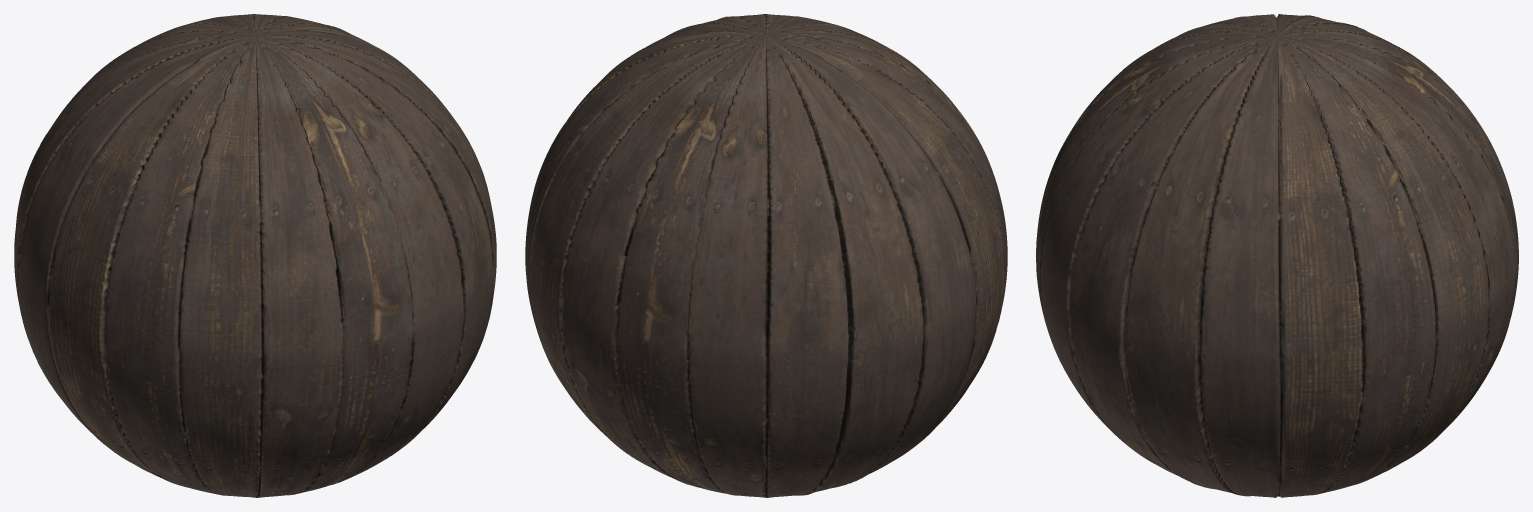
The model's file is weathered_planks_1k.glb.
3 renders of one model, left to right at view 1: azimuth 30°, elevation 25°; view 2: azimuth 150°, elevation 25°; view 3: azimuth 270°, elevation 25°, orthographic.
Parts seen in each view (by area): view 1: sphere_gltf; view 2: sphere_gltf; view 3: sphere_gltf.
Part boxes in pixels (<box>): sphere_gltf: <box>14,14,496,497</box>; sphere_gltf: <box>525,14,1007,497</box>; sphere_gltf: <box>1036,14,1518,497</box>.
Size of the model in its own units: 2.04 by 2.05 by 2.04.
1 material, 1 textured.
